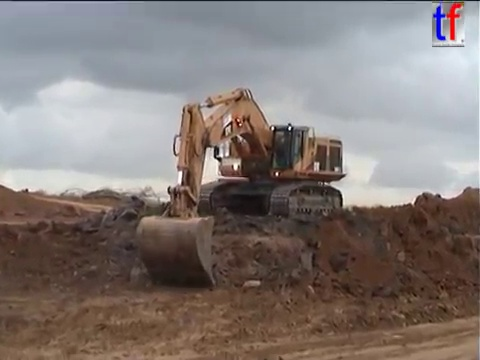excavator: (133, 84, 350, 292)
